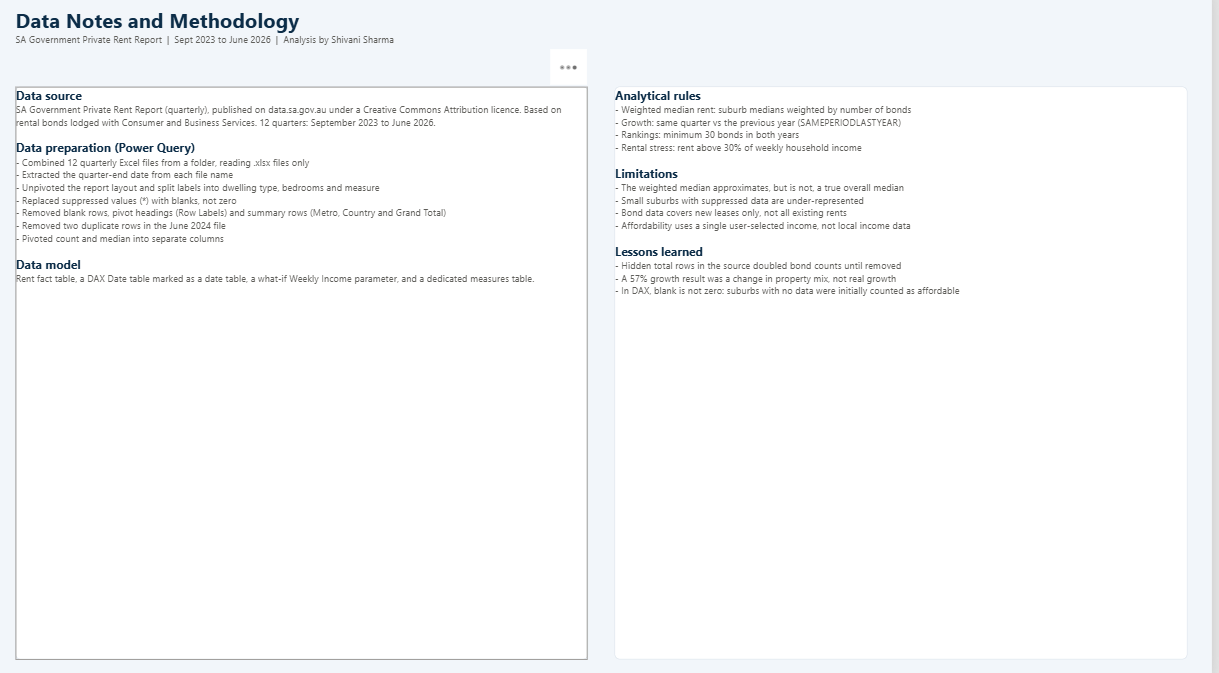

This screenshot's page, from the dashboard's own definition file:
{"tool":"powerbi","page":{"name":"Data Notes","canvas":[1920,1080],"ordinal":3},"visuals":[{"type":"textbox","box":[40,150,900,900],"z":10},{"type":"textbox","box":[980,150,900,900],"z":11},{"type":"textbox","box":[40,22,900,110],"z":100}]}

Visuals, with their boxes in screenshot pixels (x1, y1, x2, y2), scaled from the page's 1920x1080 canvas onto the 1219x673 screenshot:
textbox: bbox=[25, 93, 597, 654]
textbox: bbox=[622, 93, 1194, 654]
textbox: bbox=[25, 14, 597, 82]
